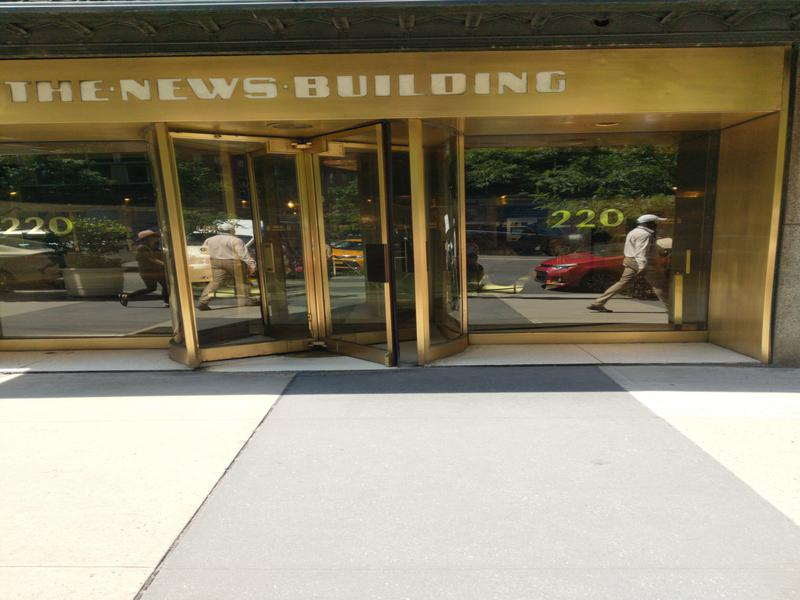revolving_door: (159, 112, 476, 372)
